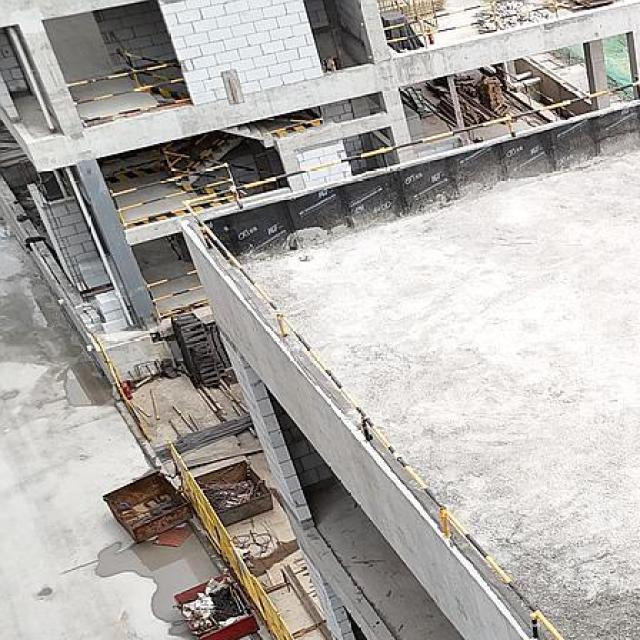Guardrail: (181, 77, 640, 640), (384, 1, 574, 49), (110, 162, 240, 228), (67, 60, 192, 126), (146, 267, 210, 323), (496, 67, 557, 106)
